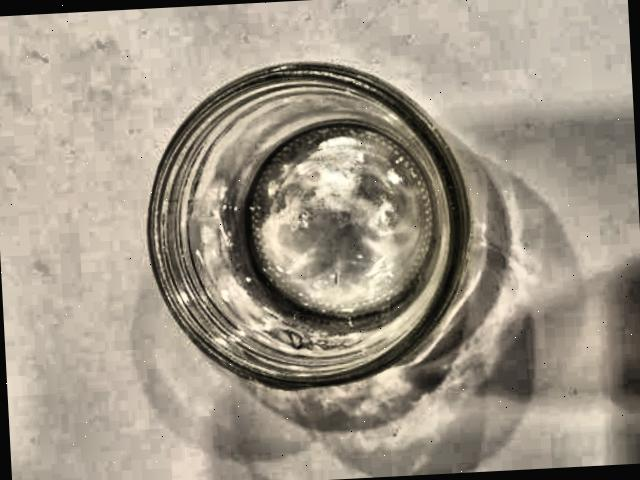Almennt: (118, 46, 533, 435)
